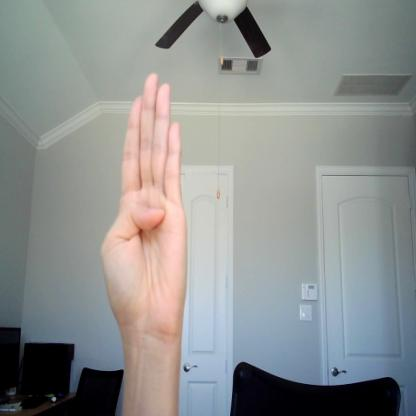B: (96, 73, 188, 333)
